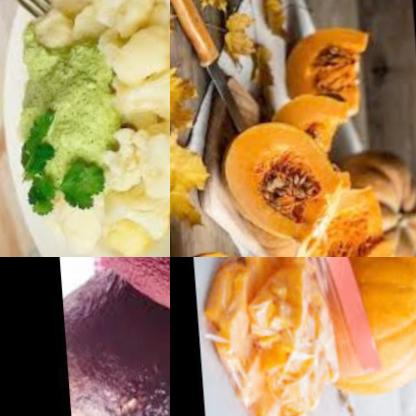beet: (55, 260, 170, 416), (58, 257, 170, 344)
cayliflower: (95, 0, 170, 197), (39, 189, 170, 257), (16, 0, 153, 43)
pumpkin: (210, 121, 347, 257), (210, 257, 325, 402), (322, 257, 416, 405), (278, 21, 371, 133), (329, 150, 416, 257), (279, 176, 389, 257), (265, 88, 349, 158)
